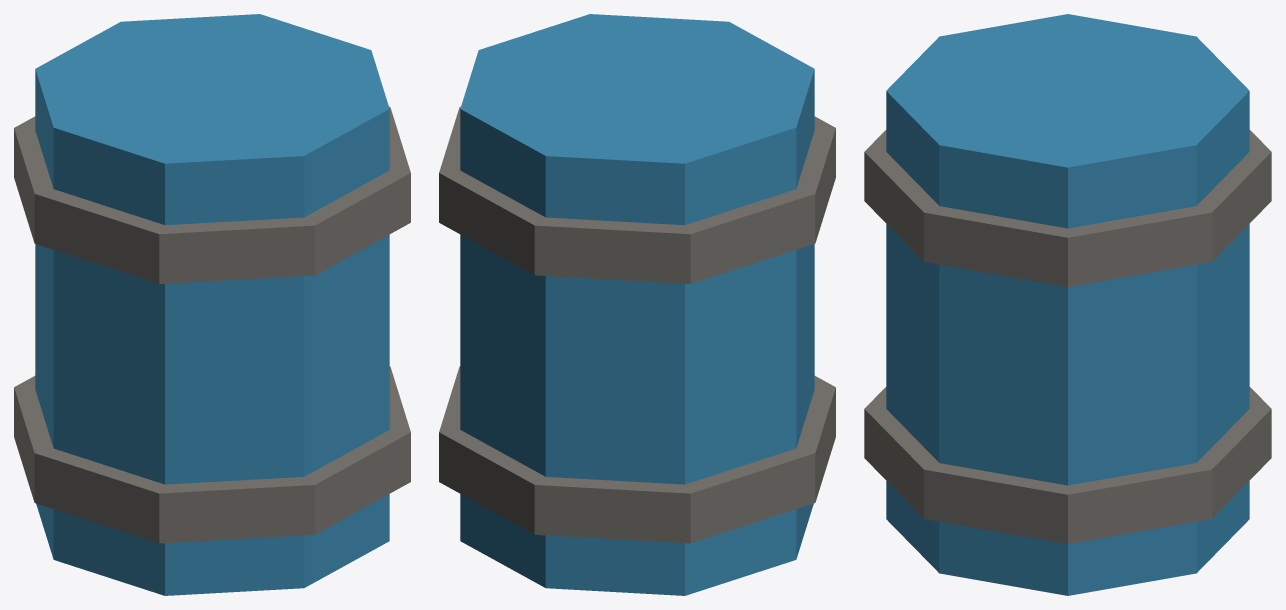
File: barrel_water.fbx
3 renders of one model, left to right at view 1: azimuth 30°, elevation 25°; view 2: azimuth 150°, elevation 25°; view 3: azimuth 270°, elevation 25°, orthographic.
Visible parts, largest first — view 1: barrel_water; view 2: barrel_water; view 3: barrel_water.
Part boxes in pixels (x1,y1,x2,y2): barrel_water: (14,14,410,595); barrel_water: (439,14,835,595); barrel_water: (864,14,1271,595).
Bounding box in the file's own units: 0.672 × 0.78 × 0.672.
